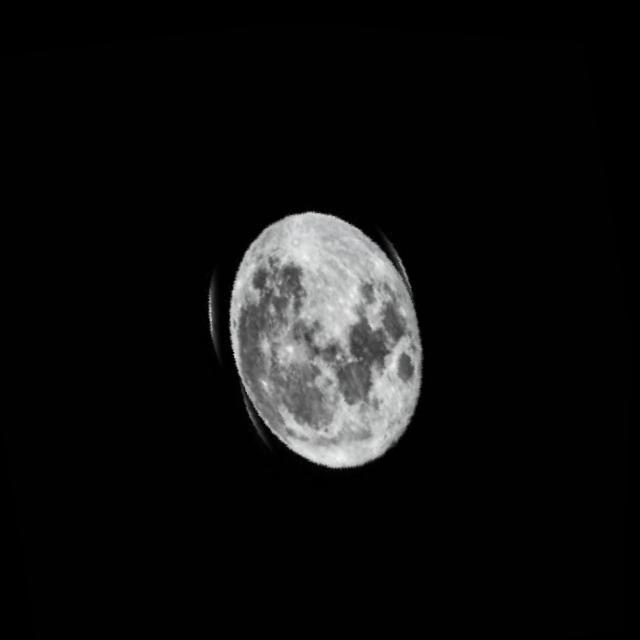moon: (168, 169, 458, 517)
